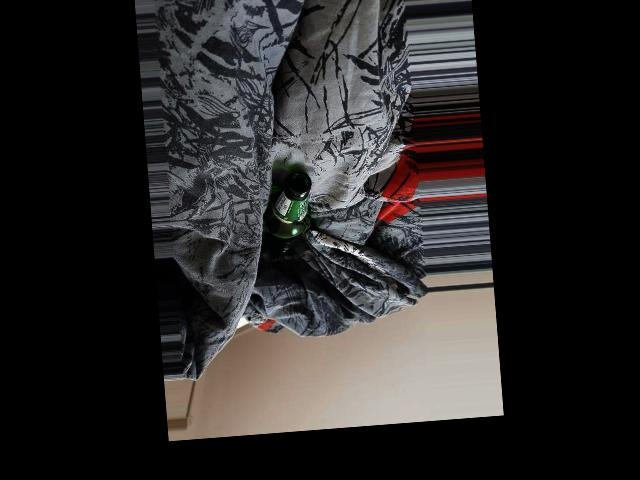beer: (260, 170, 314, 255)
